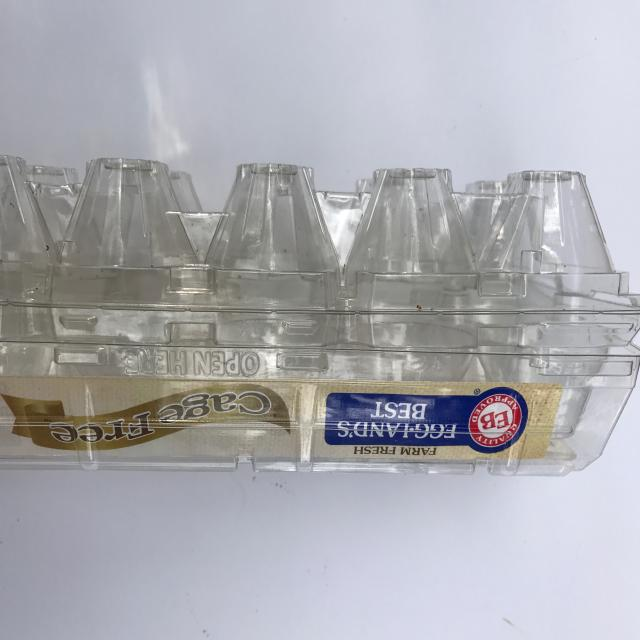plastic: (0, 154, 640, 477)
